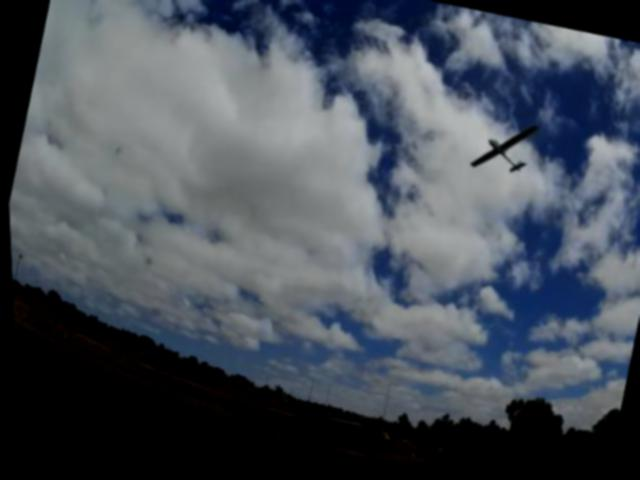uav: (457, 109, 548, 196)
